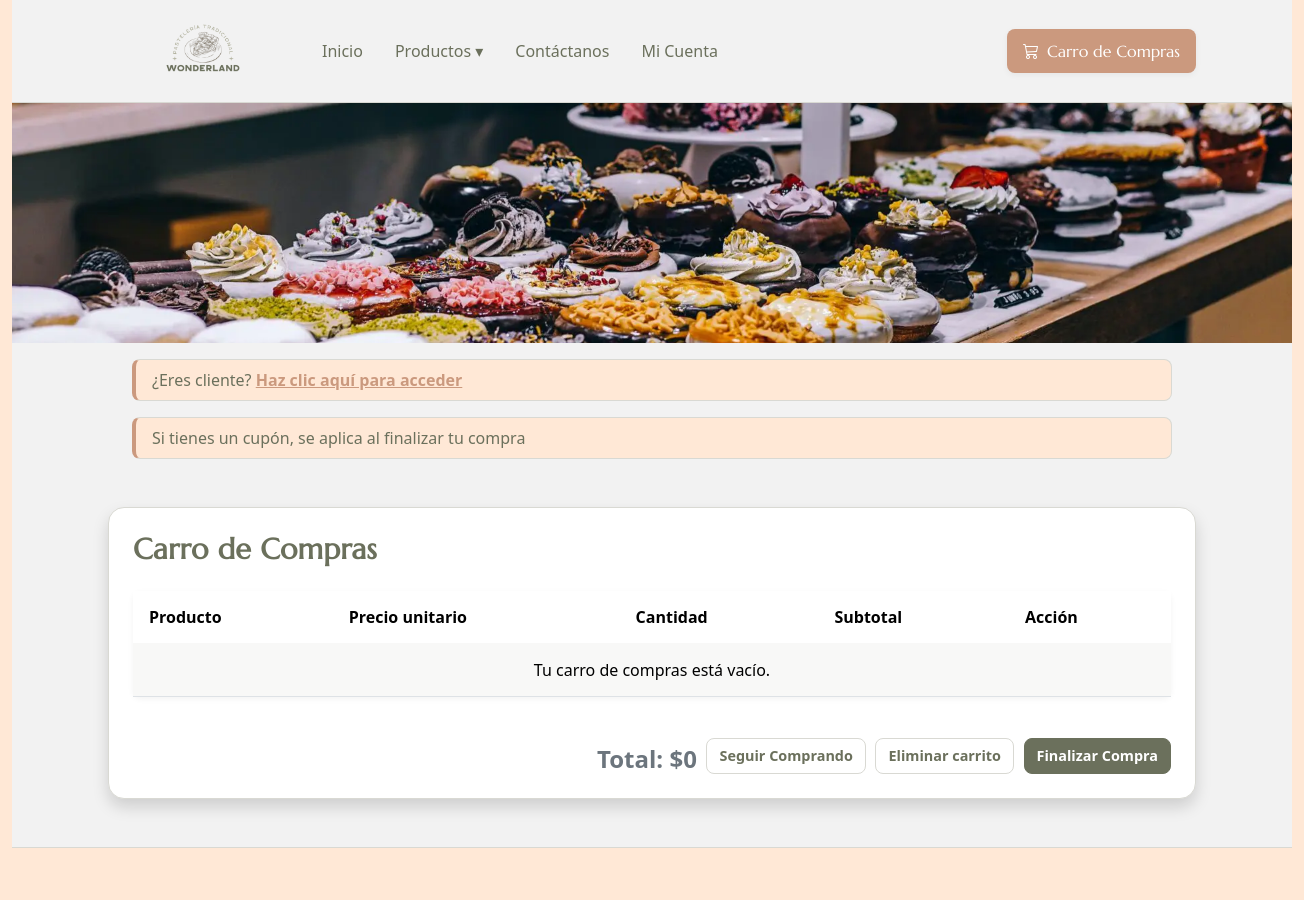
Carro.jsx › muestra advertencia si se intenta comprar sin productos
Click the button "Finalizar Compra".
click(1097, 756)  # box [1024,738,1171,774]
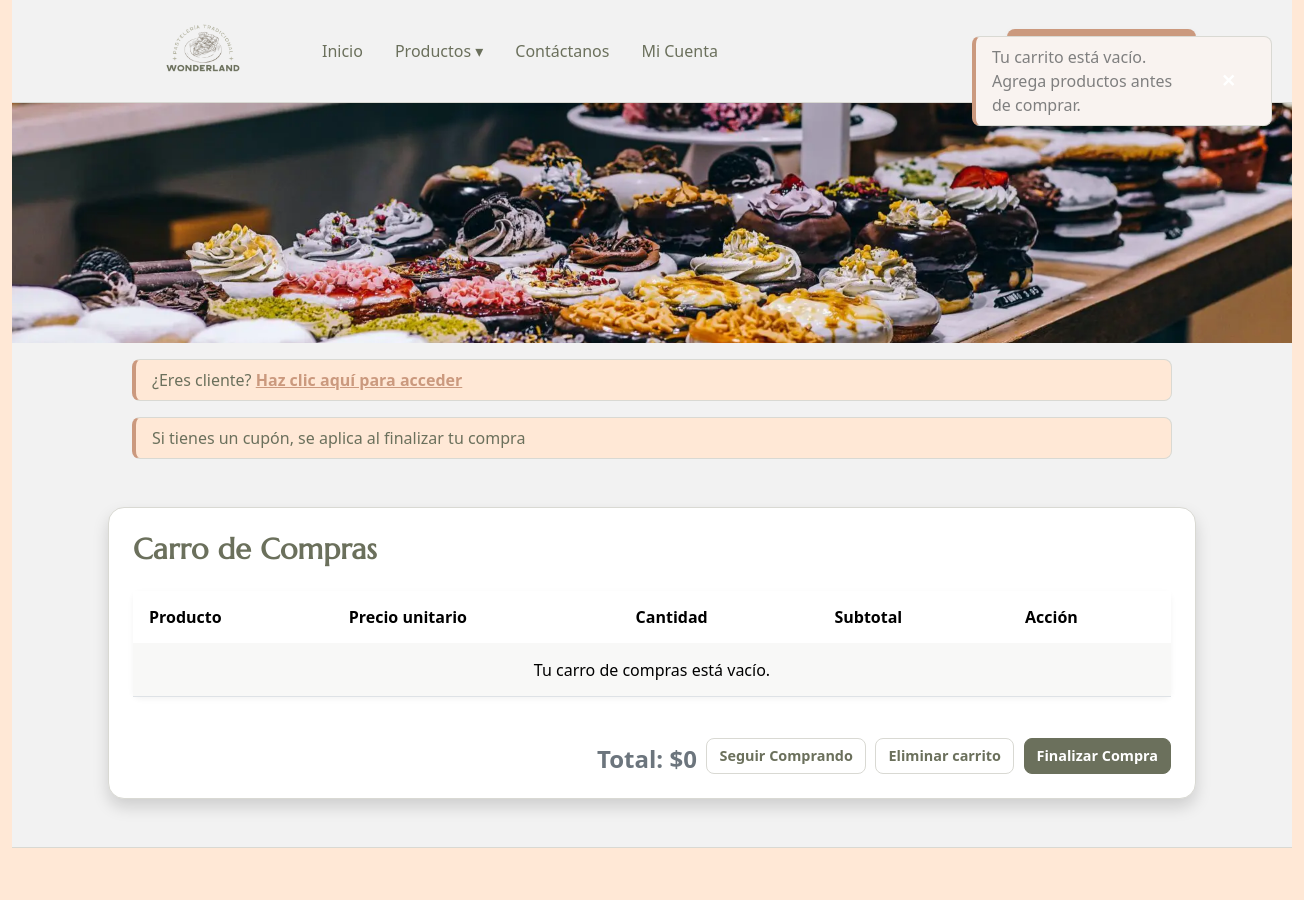
expect the text "Tu carrito está vacío. Agrega productos antes de comprar." is shown: met, box [992,45,1192,117]
